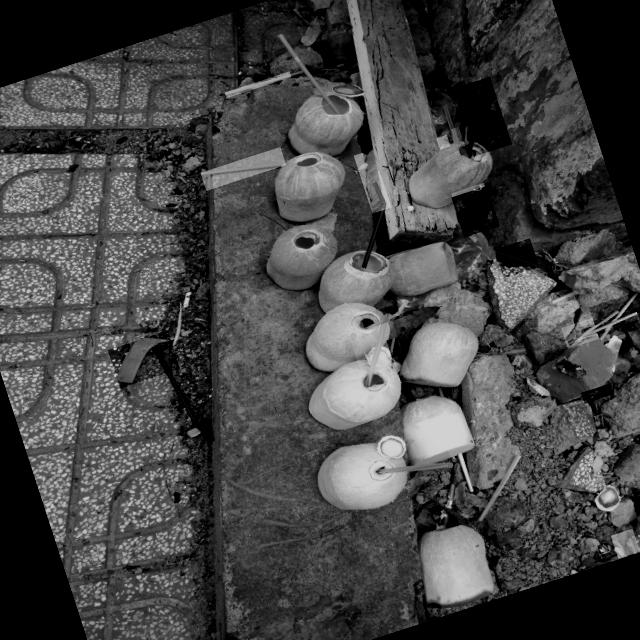Cigarette: (183, 292, 192, 307)
Food Carton: (454, 183, 494, 226)
Other plastic: (614, 533, 634, 557)
Other plastic bottle: (188, 429, 201, 438)
Plastic film: (447, 222, 495, 281), (424, 81, 456, 134), (457, 187, 488, 232), (397, 288, 444, 312), (366, 150, 381, 213), (583, 387, 612, 400), (438, 138, 450, 150)
Straw: (154, 347, 214, 441), (278, 34, 340, 115), (478, 455, 522, 522), (361, 182, 386, 269), (467, 77, 491, 158), (226, 71, 303, 96), (568, 311, 620, 348), (599, 293, 639, 341), (365, 314, 391, 386), (585, 312, 637, 337), (365, 301, 408, 329), (201, 163, 286, 176), (376, 462, 453, 474), (495, 250, 538, 268), (458, 454, 474, 492), (443, 485, 456, 526), (444, 105, 458, 142), (385, 245, 421, 259), (550, 292, 576, 304), (390, 338, 396, 358), (437, 387, 444, 397), (464, 127, 468, 141), (593, 405, 598, 416), (568, 339, 577, 345)
Unlabeled litter: (117, 338, 171, 384), (599, 545, 609, 553)
